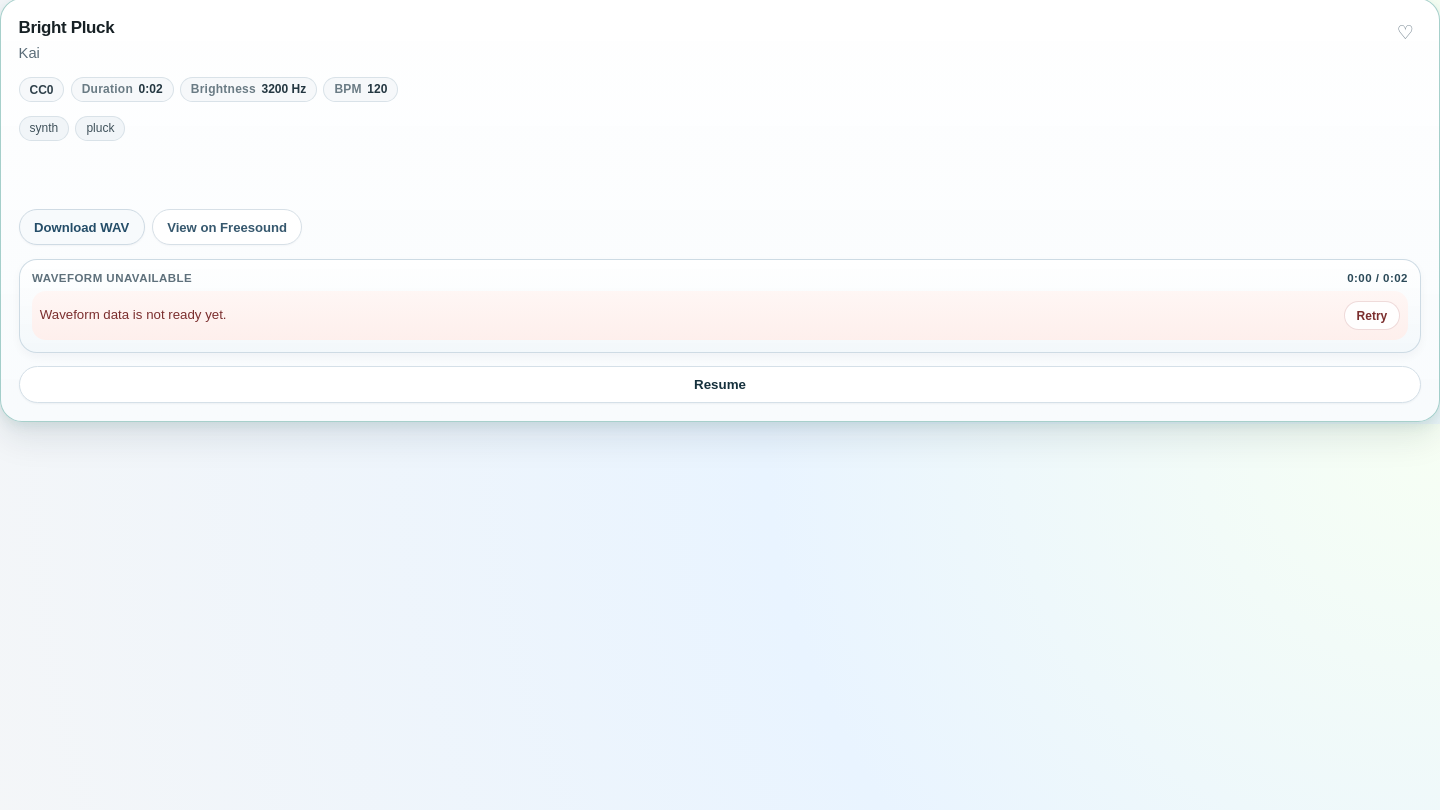
Test: SoundCard › shows waveform errors inline and retries on demand
Expected: the text "Waveform data is not ready yet." is shown, [40,307,226,322]
Click the button "Retry". click: (1372, 316)
box: [1344,301,1400,330]
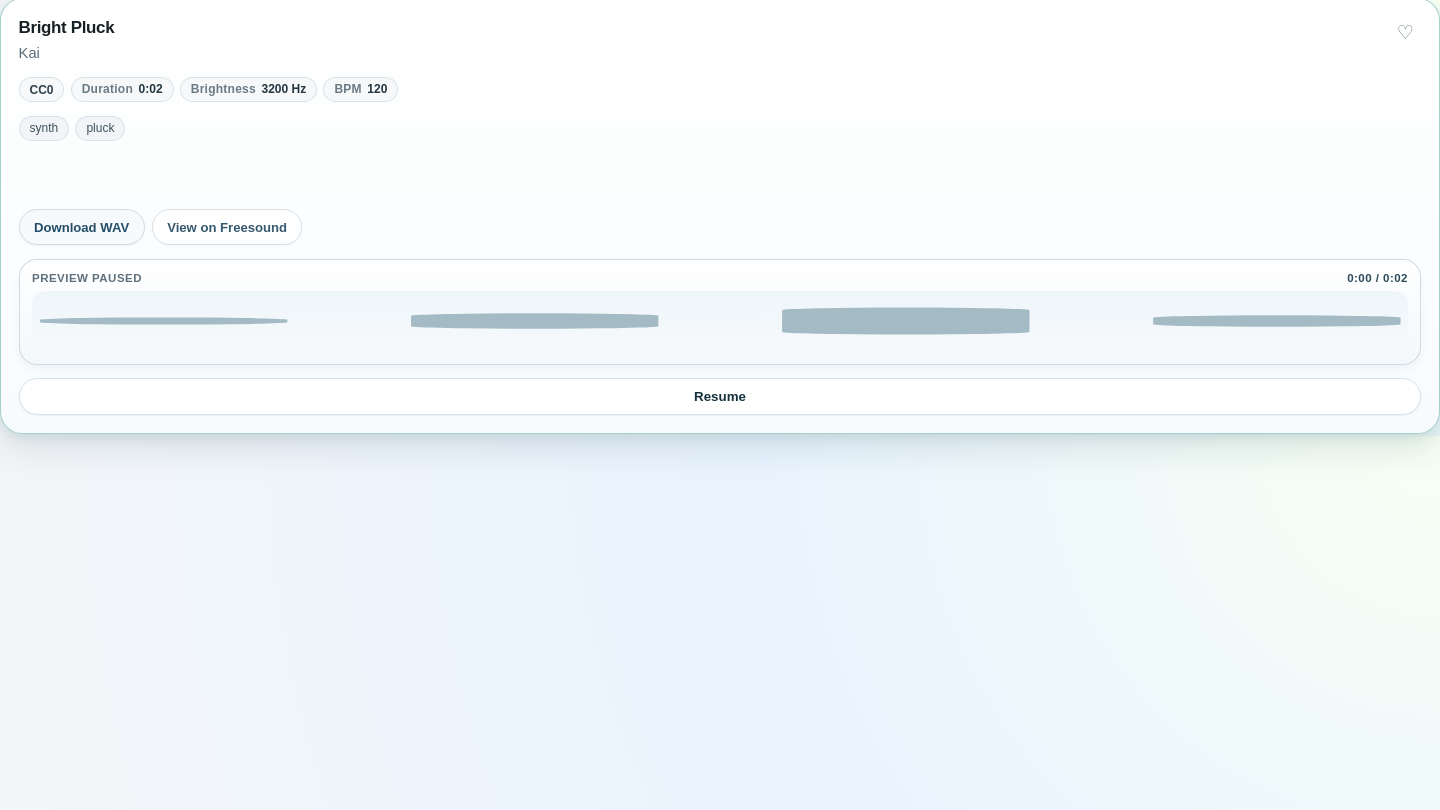
Expected: the picture named "Audio waveform preview" is shown, [40,297,1400,345]
